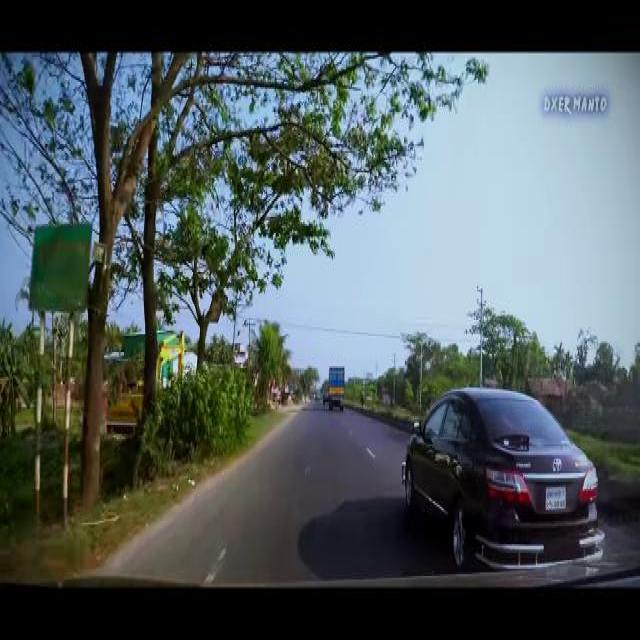vehicle: (399, 380, 607, 575), (328, 364, 346, 414)
